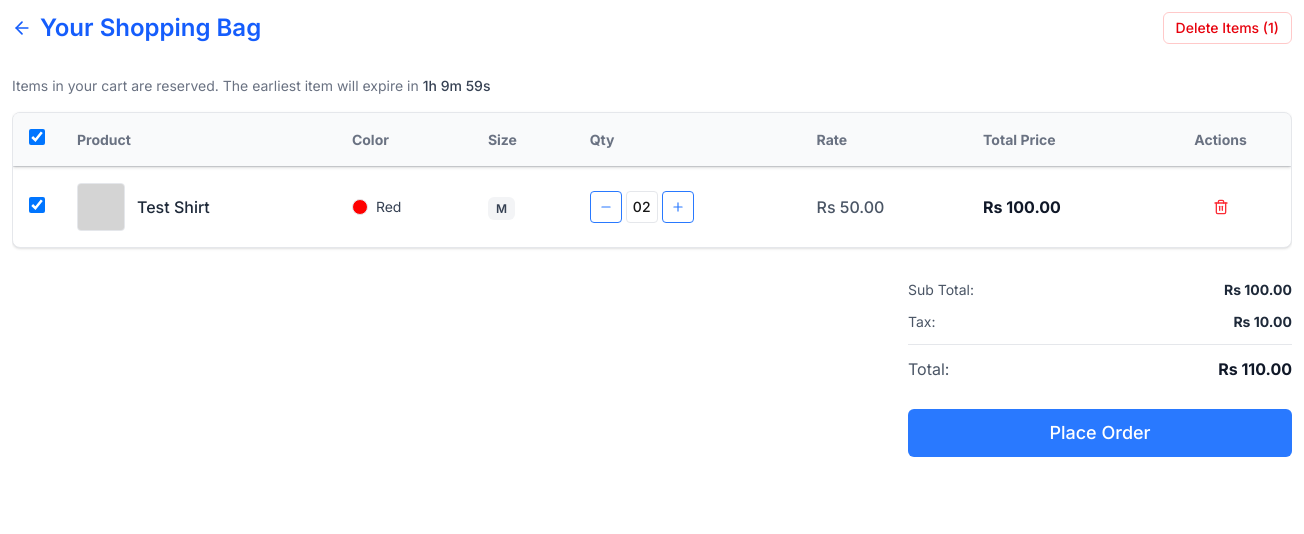
CartPage Client Component Tests › opens address modal after successful cart validation
Expected: the text "Test Shirt" is shown, [137,195,210,219]
Click the button "Place Order" at [1100, 433], box [908,409,1292,457]
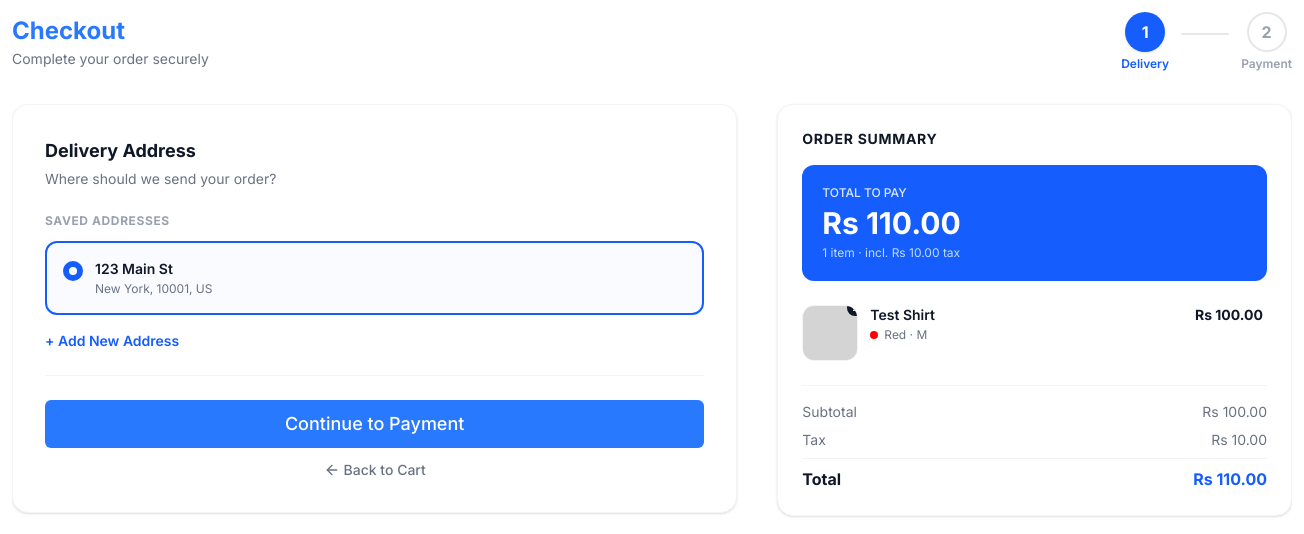
Expected: the heading "Delivery Address" is shown, [45,140,196,161]
Expected: the text "123 Main St" is shown, [95,259,173,279]
